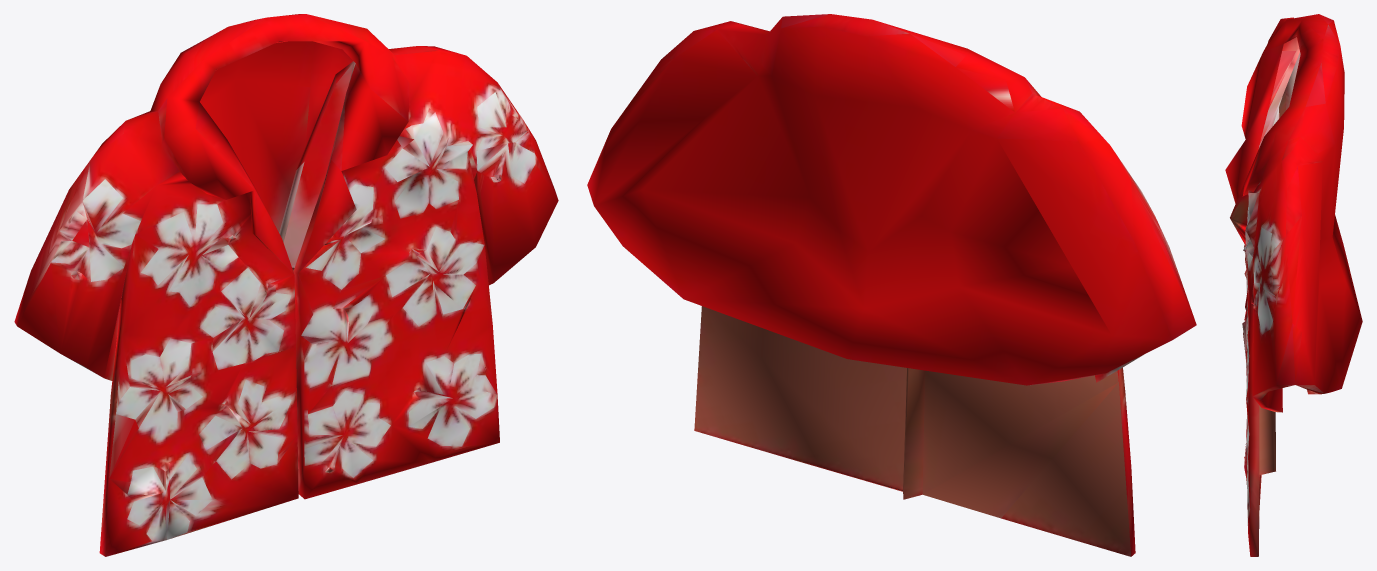
File: chemise.glb
3 views of the same model, side by side, from view 1: azimuth 30°, elevation 25°; view 2: azimuth 150°, elevation 25°; view 3: azimuth 270°, elevation 25° (orthographic). The views are drawn at different scales.
Parts seen in each view (by area): view 1: LOD0; view 2: LOD0; view 3: LOD0.
Boxes of the visible parts, bbox=[...] form: LOD0: bbox=[14, 14, 558, 556]; LOD0: bbox=[587, 14, 1196, 556]; LOD0: bbox=[1225, 14, 1362, 556].
Size of what is drawn, in the model's own units: 1.1 by 0.8893 by 0.2497.
Materials: 1 (1 with a texture image).
